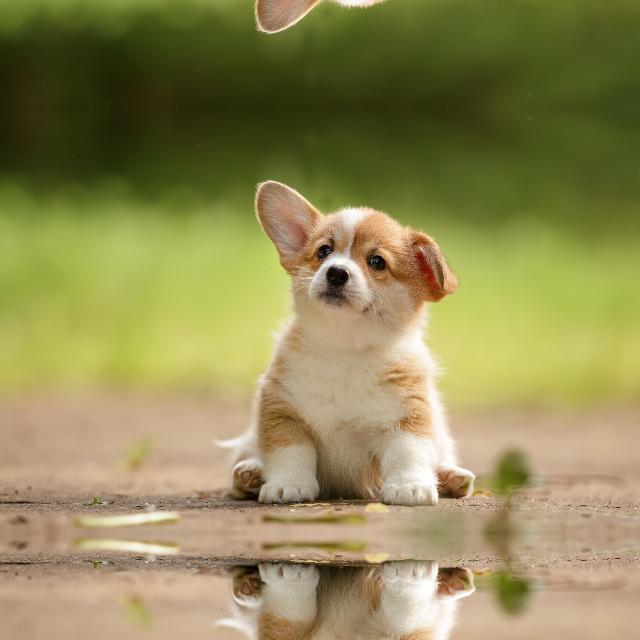dog: (253, 158, 465, 374), (253, 0, 465, 54)
